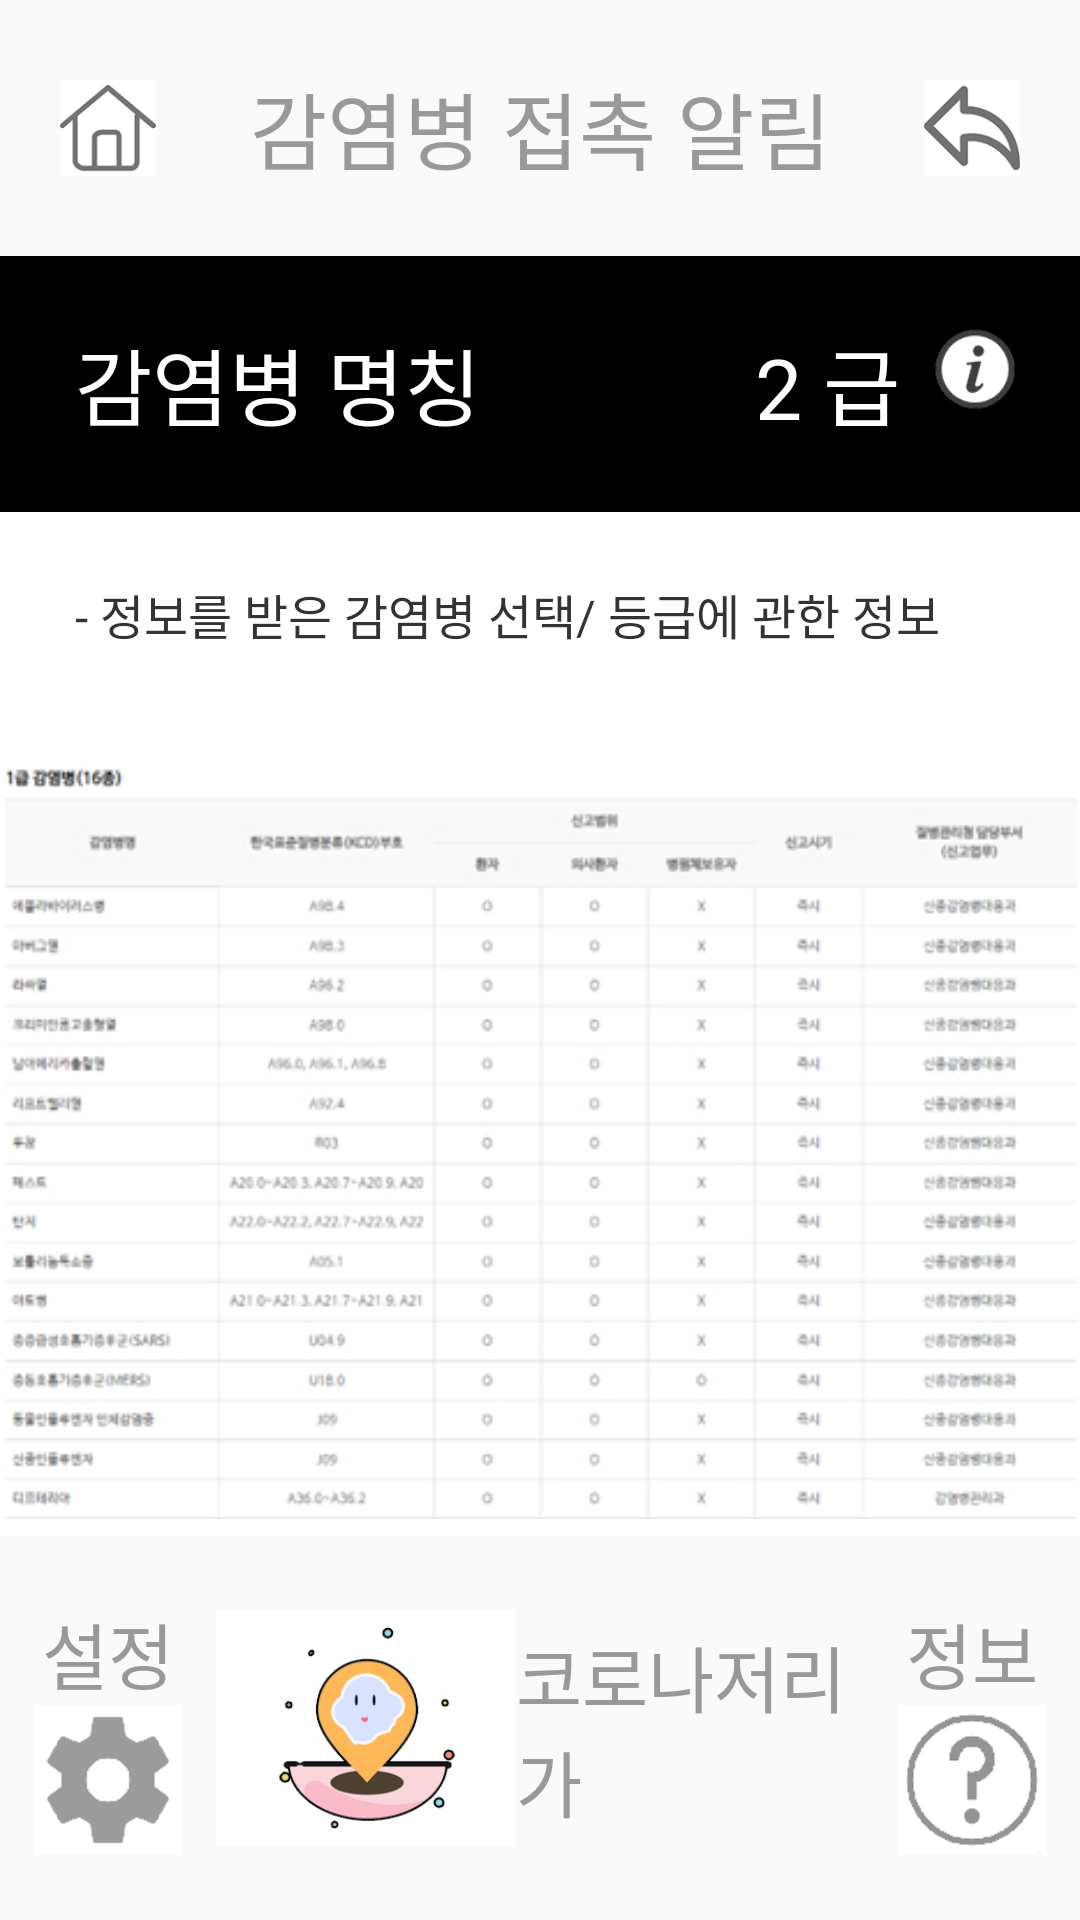

Screen size 1080 x 1920. Icon name, then its center in pixels as (x=x, y=y):
back: (x=972, y=128)
home: (x=108, y=128)
information: (x=975, y=369)
question: (x=972, y=1780)
setting: (x=108, y=1780)
